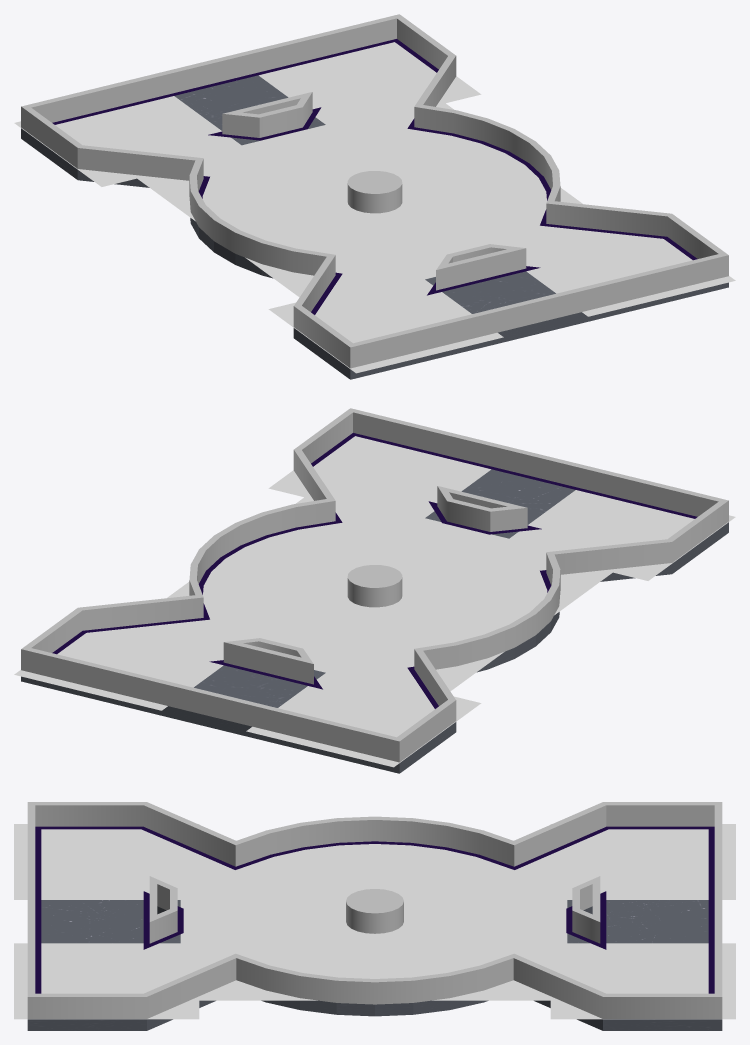
File: Battle_Stage 36.fbx
The picture shows the model from 3 angles, top to bottom: view 1: azimuth 30°, elevation 25°; view 2: azimuth 150°, elevation 25°; view 3: azimuth 270°, elevation 25°; orthographic projection. The views are drawn at different scales.
Visible parts, largest first — view 1: Plane.142, Cylinder_079.001, Cylinder_079, Cylinder_079.002, Cylinder_Visual.002; view 2: Plane.142, Cylinder_079.001, Cylinder_079, Cylinder_079.002, Cylinder_Visual.002; view 3: Plane.142, Cylinder_079.001, Cylinder_079, Cylinder_079.002, Cylinder_Visual.002.
Boxes of the visible parts, left/top/right/bottom form: Plane.142: left=14, top=42, right=735, bottom=373; Cylinder_079.001: left=21, top=14, right=728, bottom=368; Cylinder_079: left=21, top=75, right=728, bottom=379; Cylinder_079.002: left=52, top=39, right=697, bottom=314; Cylinder_Visual.002: left=347, top=171, right=402, bottom=213; Plane.142: left=14, top=436, right=735, bottom=767; Cylinder_079.001: left=21, top=408, right=728, bottom=762; Cylinder_079: left=21, top=469, right=728, bottom=773; Cylinder_079.002: left=52, top=433, right=697, bottom=708; Cylinder_Visual.002: left=347, top=565, right=402, bottom=607; Plane.142: left=14, top=824, right=735, bottom=1019; Cylinder_079.001: left=27, top=802, right=722, bottom=1018; Cylinder_079: left=27, top=900, right=722, bottom=1030; Cylinder_079.002: left=35, top=826, right=714, bottom=993; Cylinder_Visual.002: left=346, top=889, right=403, bottom=933.
Size of the model in its own units: 4772 by 388 by 7447.
